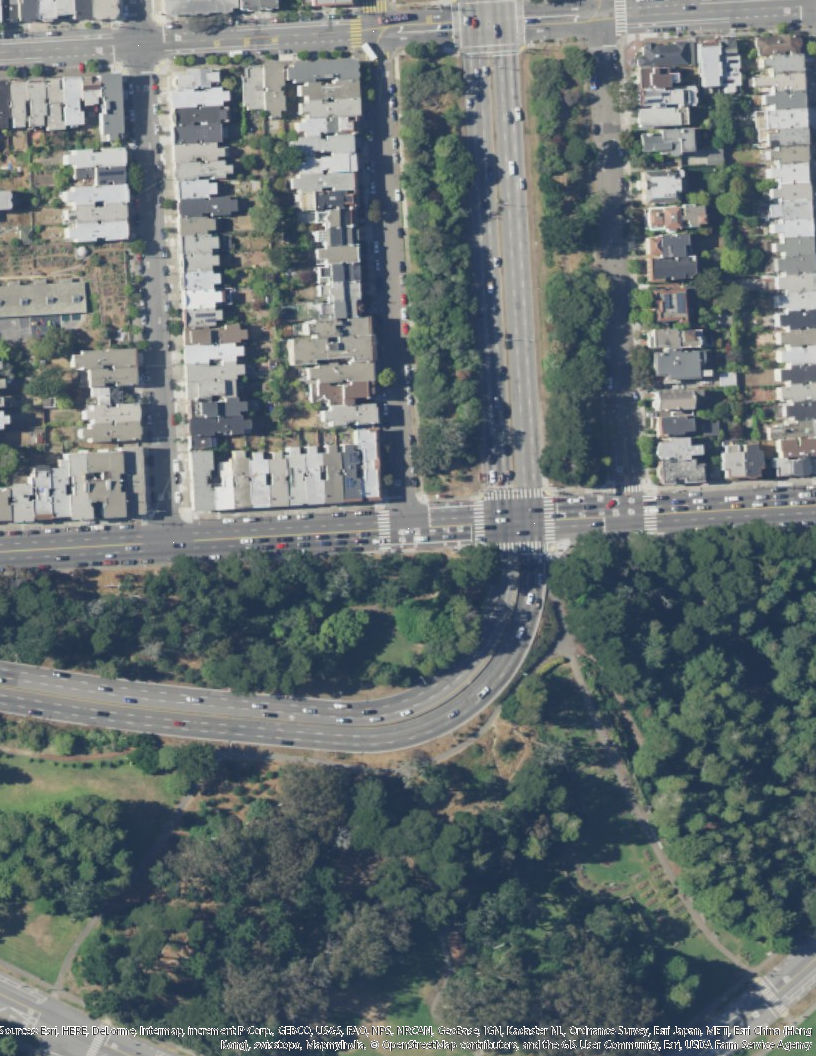zebracross: (643, 494, 661, 535), (489, 488, 546, 499), (543, 498, 557, 541), (498, 541, 543, 554), (376, 511, 391, 542), (349, 18, 362, 53), (475, 501, 486, 542), (361, 1, 388, 16), (626, 483, 643, 493)
